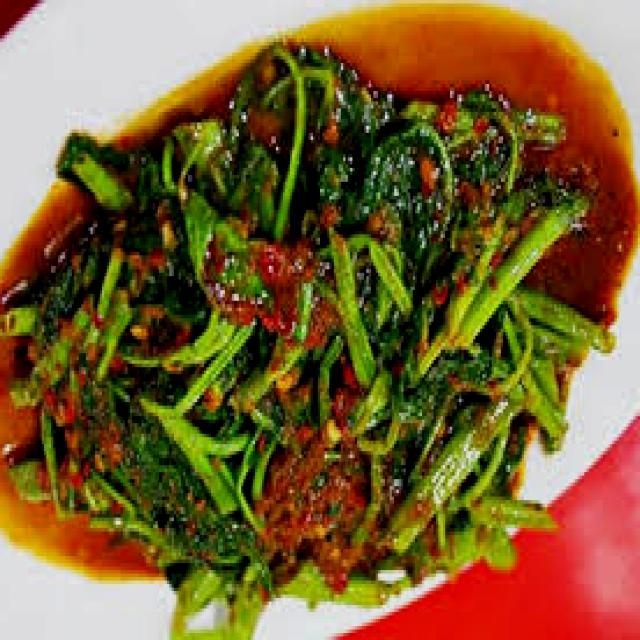tumis kangkung: (11, 56, 566, 604)
